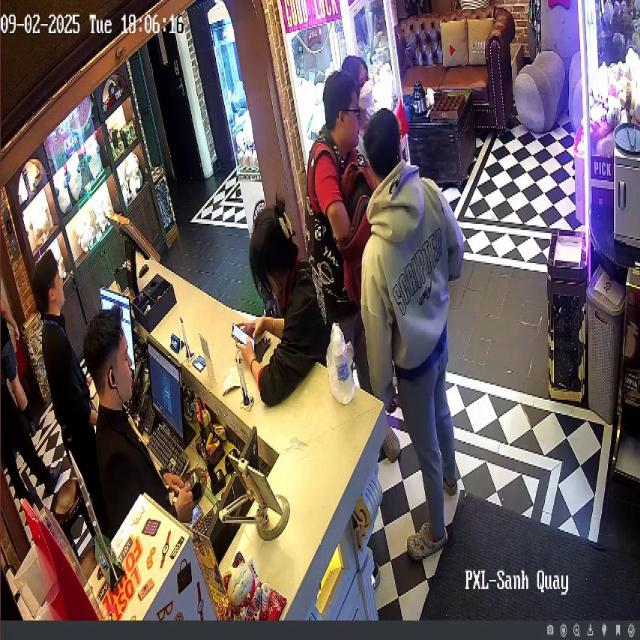khach: (360, 116, 466, 559), (232, 197, 340, 413), (302, 66, 360, 334), (0, 274, 36, 422), (344, 20, 378, 127)
nhan vien: (88, 307, 175, 560), (27, 254, 99, 465), (0, 339, 61, 505)
